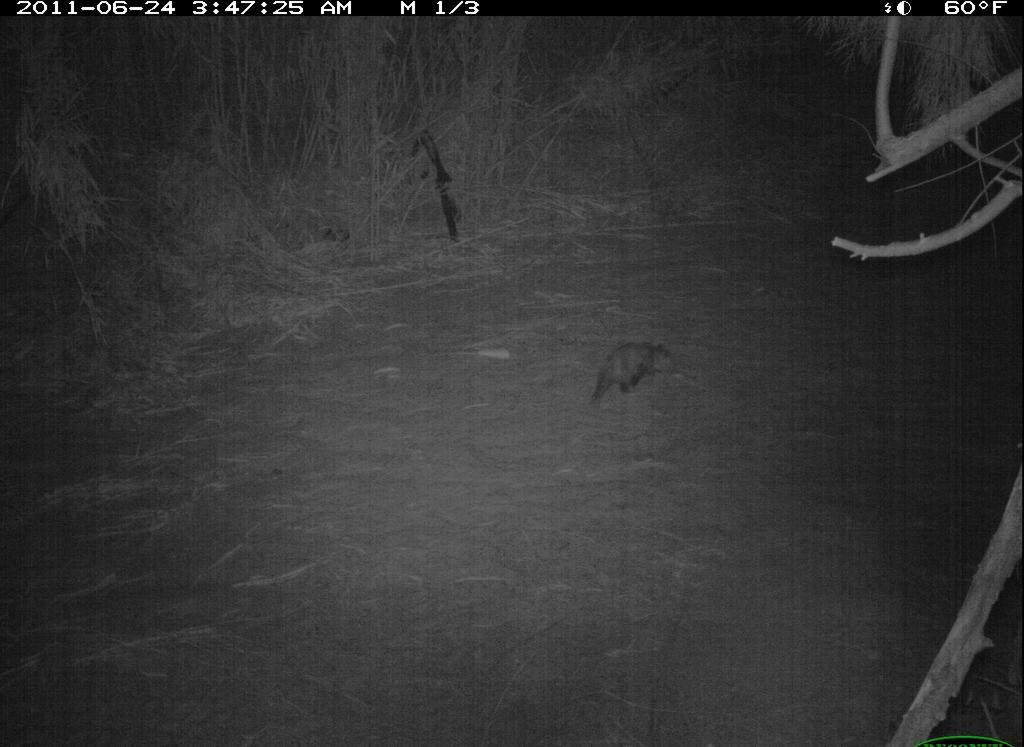opossum: (575, 332, 683, 413)
